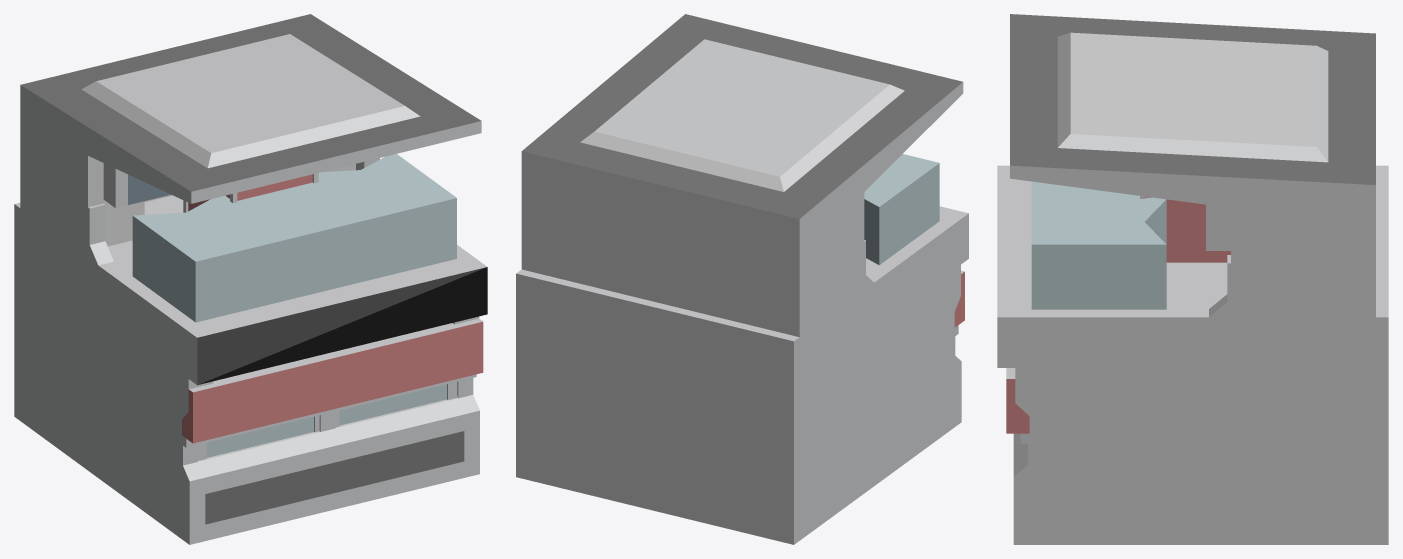
File: kenney-scenery.glb
The picture shows the model from 3 angles, left to right: view 1: azimuth 30°, elevation 25°; view 2: azimuth 150°, elevation 25°; view 3: azimuth 270°, elevation 25°; orthographic projection. The views are drawn at different scales.
Visible parts, largest first — view 1: k_pits, k_grandstand, n_cliff_large, k_grandstand_open, k_pits_office, k_banner_red; view 2: k_pits, k_grandstand, n_cliff_large, k_grandstand_open, k_pits_office; view 3: k_pits, k_grandstand, n_cliff_large, k_grandstand_open, k_banner_red, k_pits_office.
Boxes of the visible parts, x1,y1,x2,y2 form: k_pits: (14, 195, 487, 538); k_grandstand: (20, 14, 481, 209); n_cliff_large: (132, 154, 456, 457); k_grandstand_open: (22, 150, 479, 544); k_pits_office: (182, 318, 483, 541); k_banner_red: (183, 173, 318, 212); k_pits: (516, 206, 968, 544); k_grandstand: (521, 14, 963, 336); n_cliff_large: (864, 154, 939, 265); k_grandstand_open: (801, 240, 961, 423); k_pits_office: (954, 270, 964, 426); k_pits: (997, 165, 1388, 544); k_grandstand: (1010, 14, 1375, 317); n_cliff_large: (1031, 181, 1166, 309); k_grandstand_open: (1013, 253, 1372, 544); k_banner_red: (1140, 196, 1230, 262); k_pits_office: (1006, 368, 1029, 544).
Size of the model in its own units: 10 by 11.86 by 10.9.
